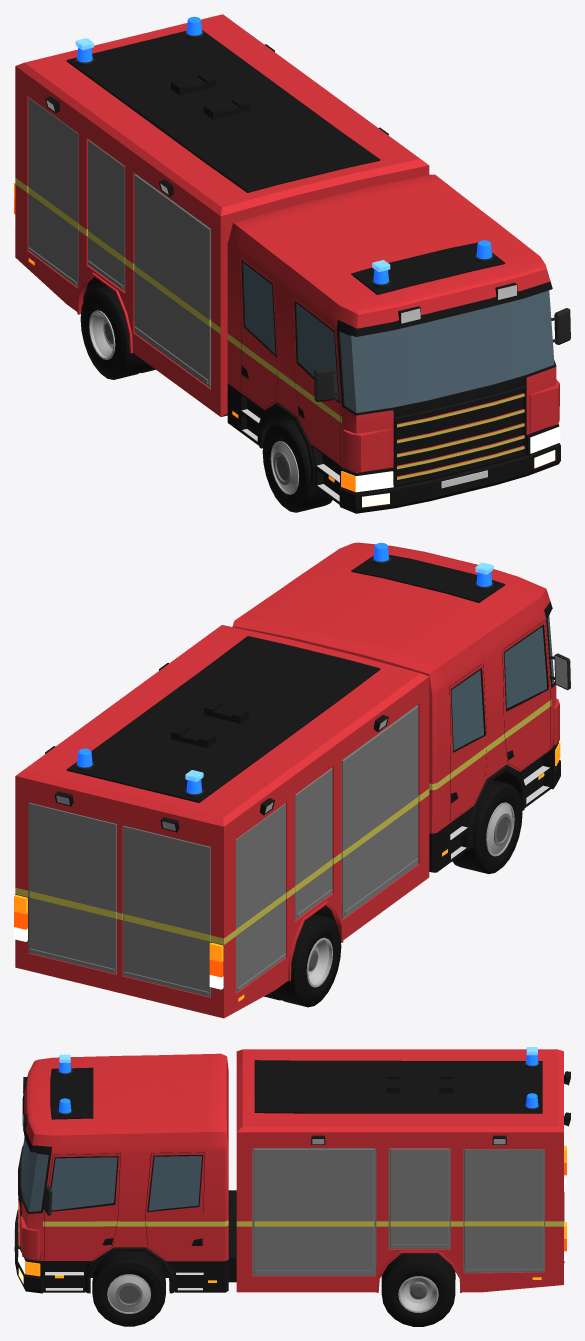
Rendered from fire-red.glb.
The picture shows the model from 3 angles, top to bottom: view 1: azimuth 30°, elevation 25°; view 2: azimuth 150°, elevation 25°; view 3: azimuth 270°, elevation 25°; orthographic projection. The views are drawn at different scales.
Parts seen in each view (by area): view 1: FireTruckLow; view 2: FireTruckLow; view 3: FireTruckLow.
Part boxes in pixels (bbox=[...]): FireTruckLow: bbox=[14, 14, 570, 513]; FireTruckLow: bbox=[14, 542, 570, 1018]; FireTruckLow: bbox=[14, 1049, 570, 1326].
Size of the model in its own units: 0.4219 by 0.426 by 1.
